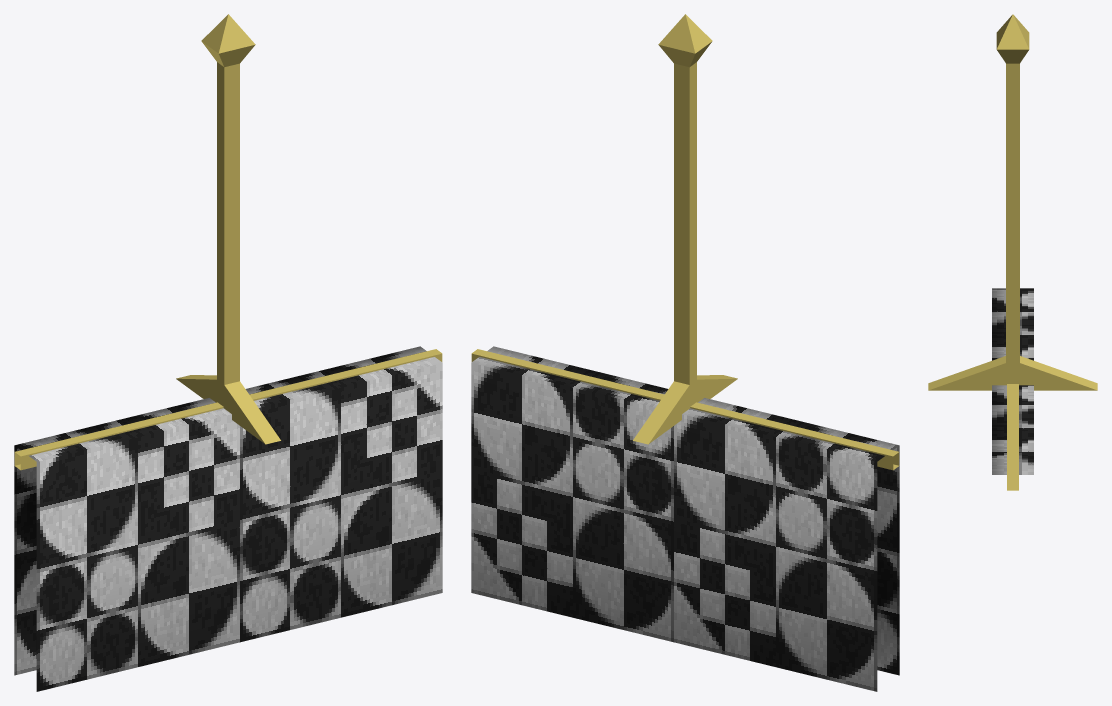
The picture shows the model from 3 angles, left to right: view 1: azimuth 30°, elevation 25°; view 2: azimuth 150°, elevation 25°; view 3: azimuth 270°, elevation 25°; orthographic projection. The views are drawn at different scales.
Parts seen in each view (by area): view 1: 4625floor_r; view 2: 4625floor_r; view 3: 4625floor_r.
Part boxes in pixels (bbox=[...]): 4625floor_r: bbox=[14, 14, 442, 691]; 4625floor_r: bbox=[471, 14, 899, 691]; 4625floor_r: bbox=[928, 14, 1097, 490].
Size of the model in its own units: 1.59 by 2.23 by 0.5869.
2 materials, 1 textured.
